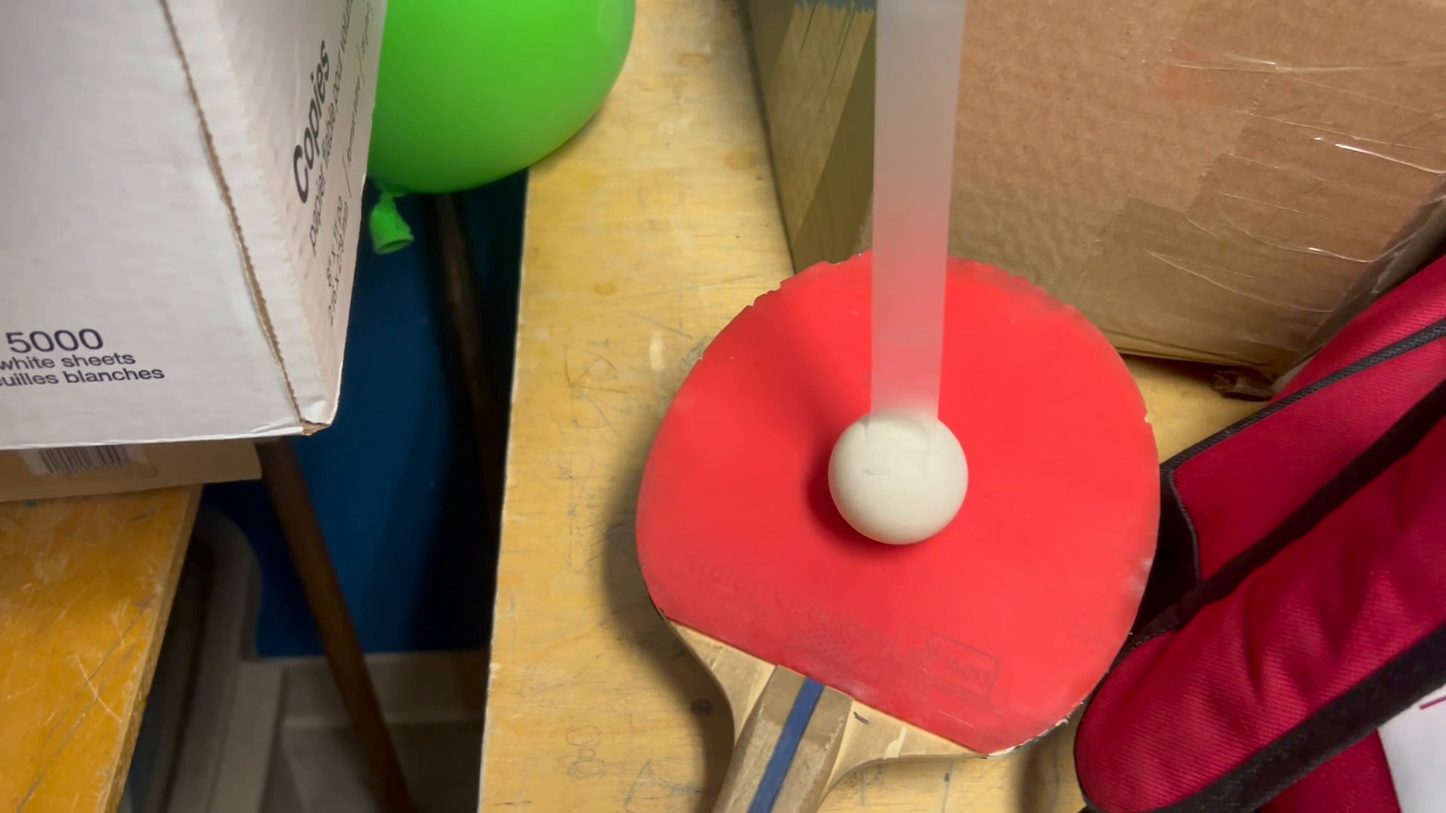Ball: (821, 409, 974, 546)
